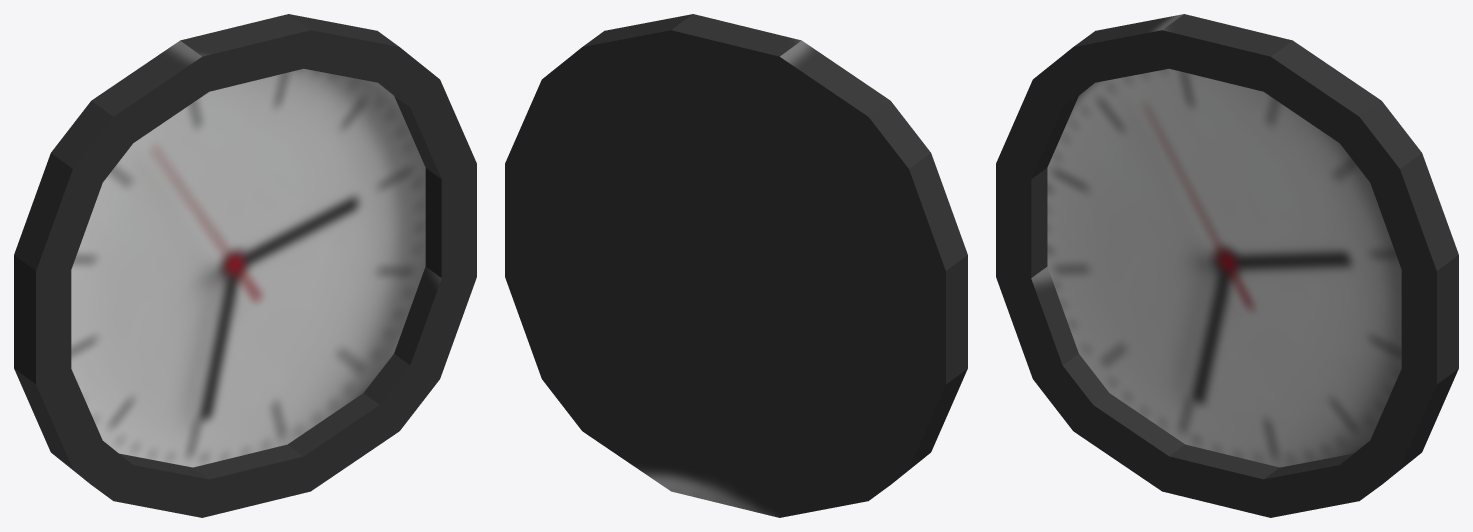
The model's file is zegar.glb.
3 renders of one model, left to right at view 1: azimuth 30°, elevation 25°; view 2: azimuth 150°, elevation 25°; view 3: azimuth 330°, elevation 25°, orthographic.
Parts seen in each view (by area): view 1: Cube.048; view 2: Cube.048; view 3: Cube.048.
Boxes of the visible parts, bbox=[...] form: Cube.048: bbox=[14, 14, 476, 517]; Cube.048: bbox=[505, 14, 967, 517]; Cube.048: bbox=[996, 14, 1458, 517].
Size of the model in its own units: 0.7498 by 0.7498 by 0.0652.
Materials: 1 (1 with a texture image).
